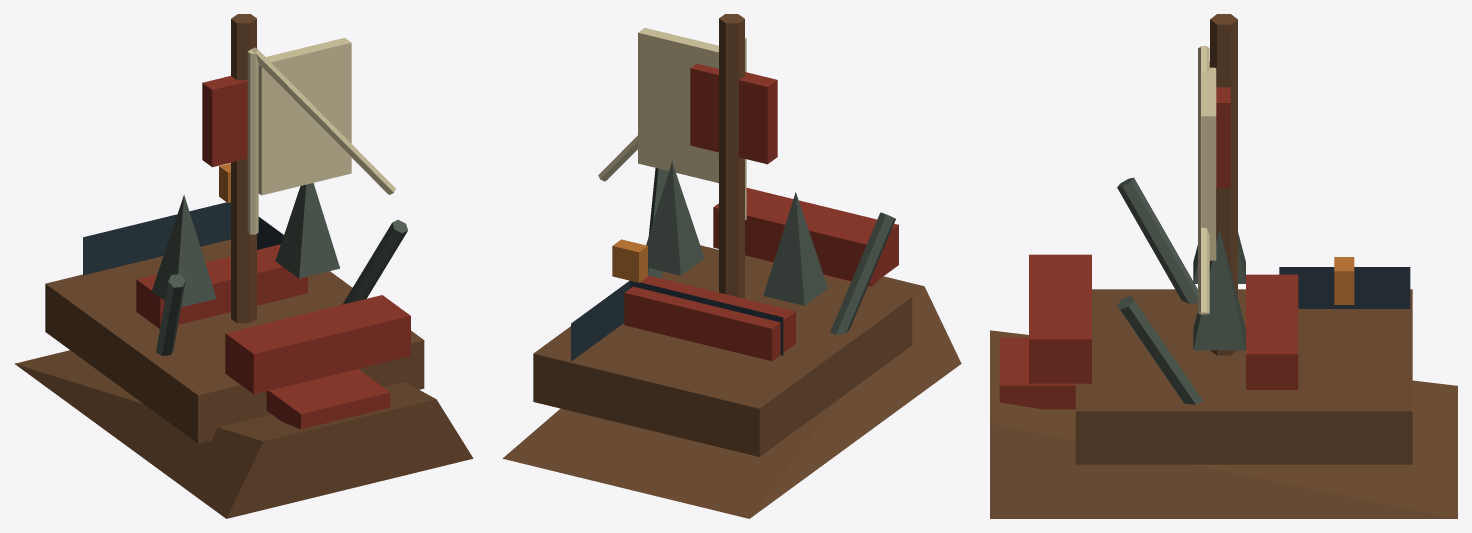
File: fishing-vessel.obj
3 views of the same model, side by side, from view 1: azimuth 30°, elevation 25°; view 2: azimuth 150°, elevation 25°; view 3: azimuth 270°, elevation 25° (orthographic). The views are drawn at different scales.
Visible parts, largest first — view 1: ship; view 2: ship; view 3: ship.
Part boxes in pixels (<box>): ship: <box>14,14,473,518</box>; ship: <box>503,14,961,518</box>; ship: <box>990,14,1457,518</box>.
Bounding box in the file's own units: 1.54 × 2.18 × 2.14.
